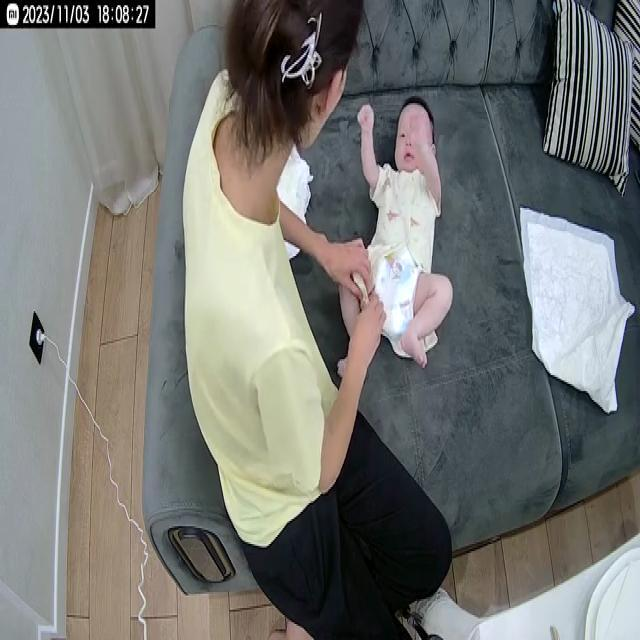baby: (336, 93, 454, 388)
